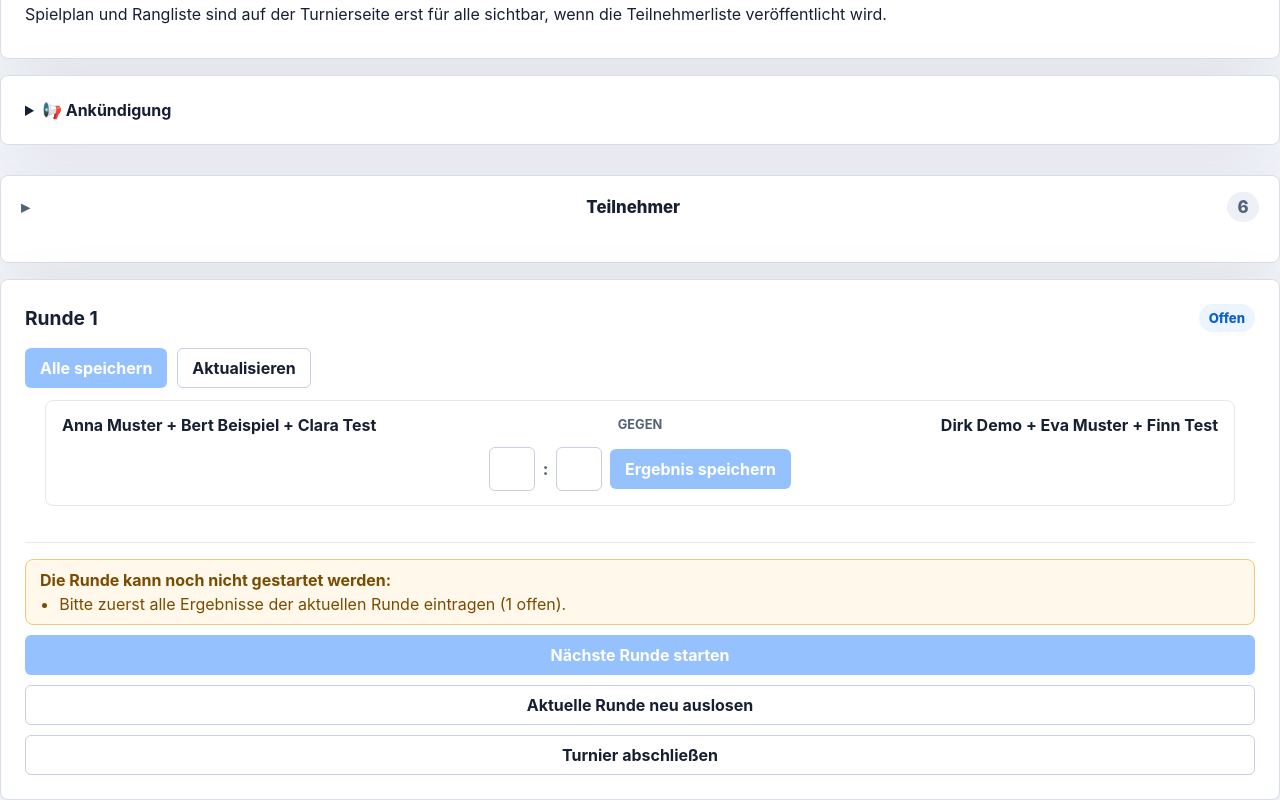
it: TournamentPlayManagement › meldet, wenn der Server die erste Mêlée-Runde wegen geänderter Teams zurücknimmt
The width and height of the screenshot is (1280, 800).
(page scrolled)
Expected: the text "Anna Muster + Bert Beispiel + Clara Test" is shown, [62, 415, 376, 435]
Step 1. Click the button "Aktuelle Runde neu auslosen" → (640, 705), box [25, 685, 1255, 725]
(page scrolled)
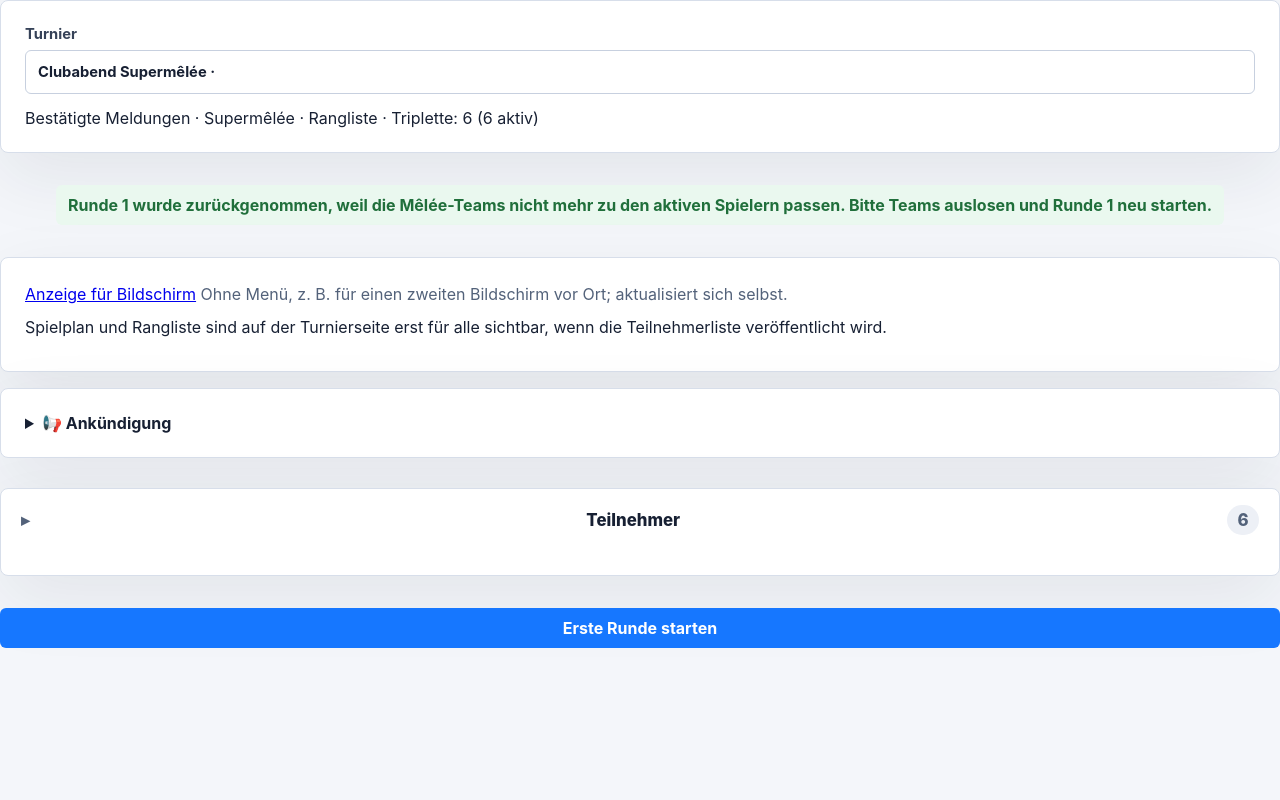
Now the text "Runde 1 wurde zurückgenommen, weil die Mêlée-Teams nicht mehr zu den aktiven Spielern passen. Bitte Teams auslosen und R" is shown, box [68, 195, 1212, 215]
Now the button "Erste Runde starten" is shown, box [0, 608, 1279, 648]
